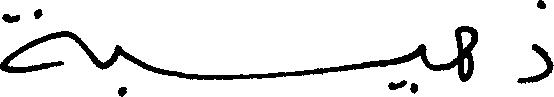X: (0, 4, 73, 77), (518, 0, 553, 88), (454, 21, 476, 86), (114, 40, 122, 96)
